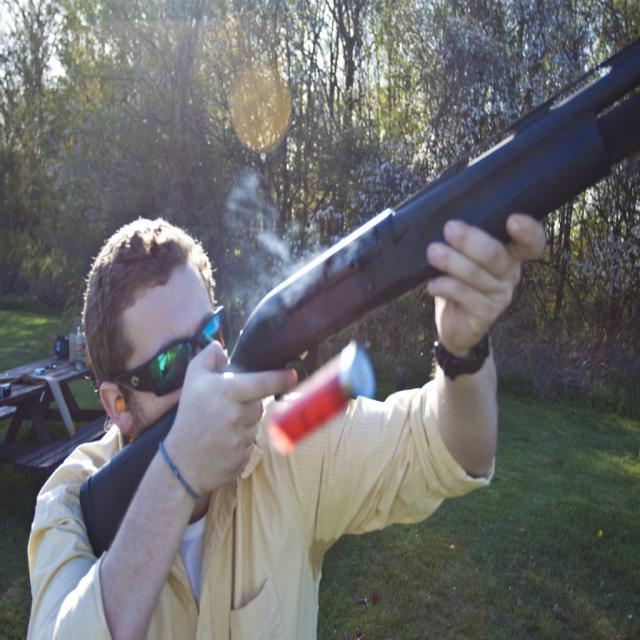weapon: (80, 35, 640, 562)
